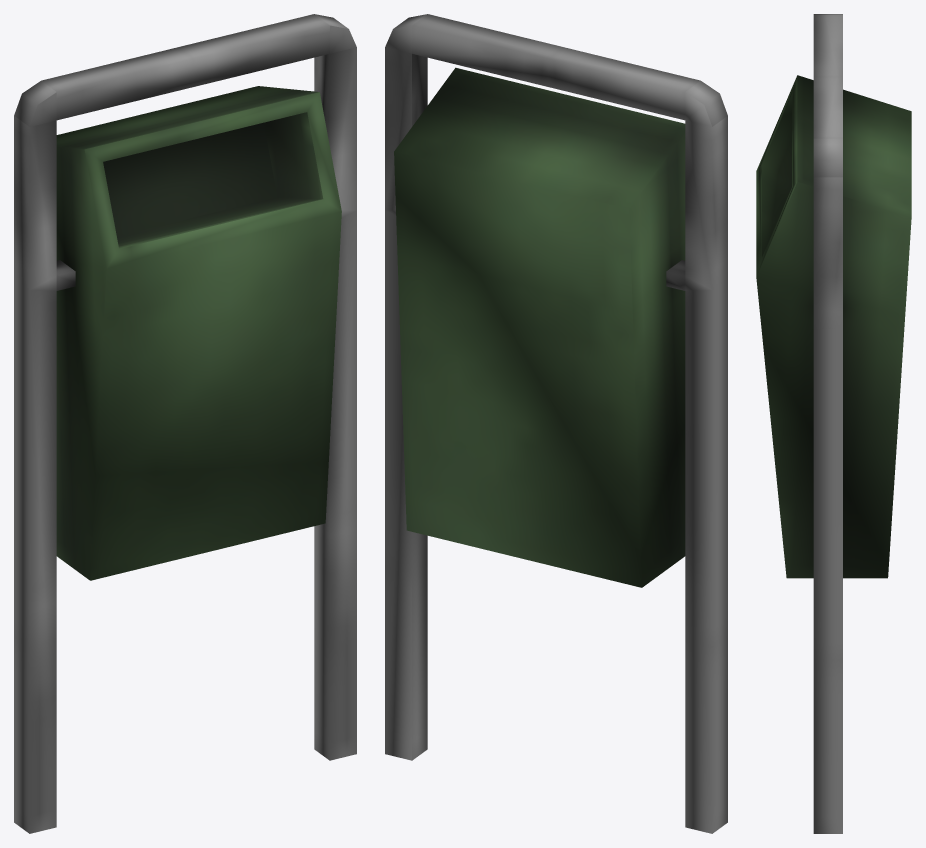
The model's file is Garbage Bin3.fbx.
3 views of the same model, side by side, from view 1: azimuth 30°, elevation 25°; view 2: azimuth 150°, elevation 25°; view 3: azimuth 270°, elevation 25° (orthographic). The views are drawn at different scales.
Visible parts, largest first — view 1: Garbage Bin3; view 2: Garbage Bin3; view 3: Garbage Bin3.
Part boxes in pixels (bbox=[...]): Garbage Bin3: bbox=[14, 14, 356, 833]; Garbage Bin3: bbox=[385, 14, 727, 833]; Garbage Bin3: bbox=[756, 14, 911, 833].
Size of the model in its own units: 0.6031 by 1.29 by 0.2668.
Materials: 1 (1 with a texture image).
